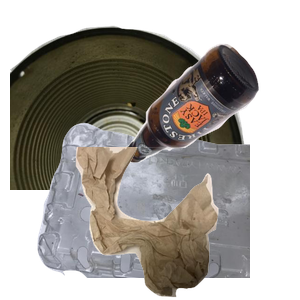glass: (120, 41, 300, 196)
metal: (10, 23, 250, 203)
plastic: (35, 120, 275, 300)
trash: (73, 147, 300, 300)
